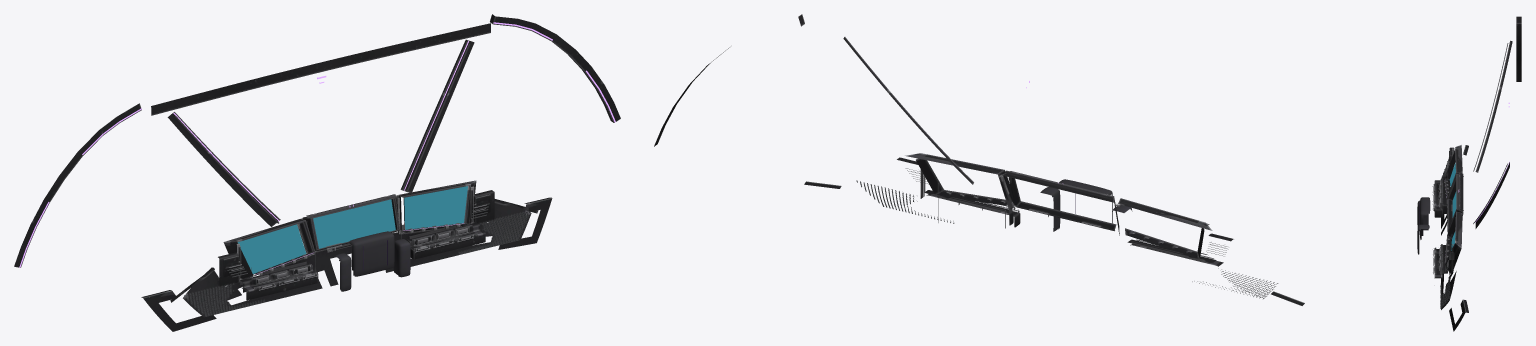
The model's file is sd_hayalet_cockpit_r006_m.glb.
The picture shows the model from 3 angles, left to right: view 1: azimuth 30°, elevation 25°; view 2: azimuth 150°, elevation 25°; view 3: azimuth 270°, elevation 25°; orthographic projection. The views are drawn at different scales.
Parts seen in each view (by area): view 1: LOD0_body, SCR_RADAR, SCR_HULL, SCR_SYS, LOD0_emit; view 2: LOD0_body; view 3: LOD0_body, SCR_RADAR.
Part boxes in pixels (<box>): LOD0_body: <box>14,14,620,331</box>; SCR_RADAR: <box>313,199,395,248</box>; SCR_HULL: <box>404,186,467,229</box>; SCR_SYS: <box>237,224,306,273</box>; LOD0_emit: <box>19,22,615,274</box>; LOD0_body: <box>654,14,1304,305</box>; LOD0_body: <box>1417,16,1521,331</box>; SCR_RADAR: <box>1452,191,1456,217</box>.
Size of the model in its own units: 4.82 by 1.52 by 0.8564.
3 materials, 1 textured.
